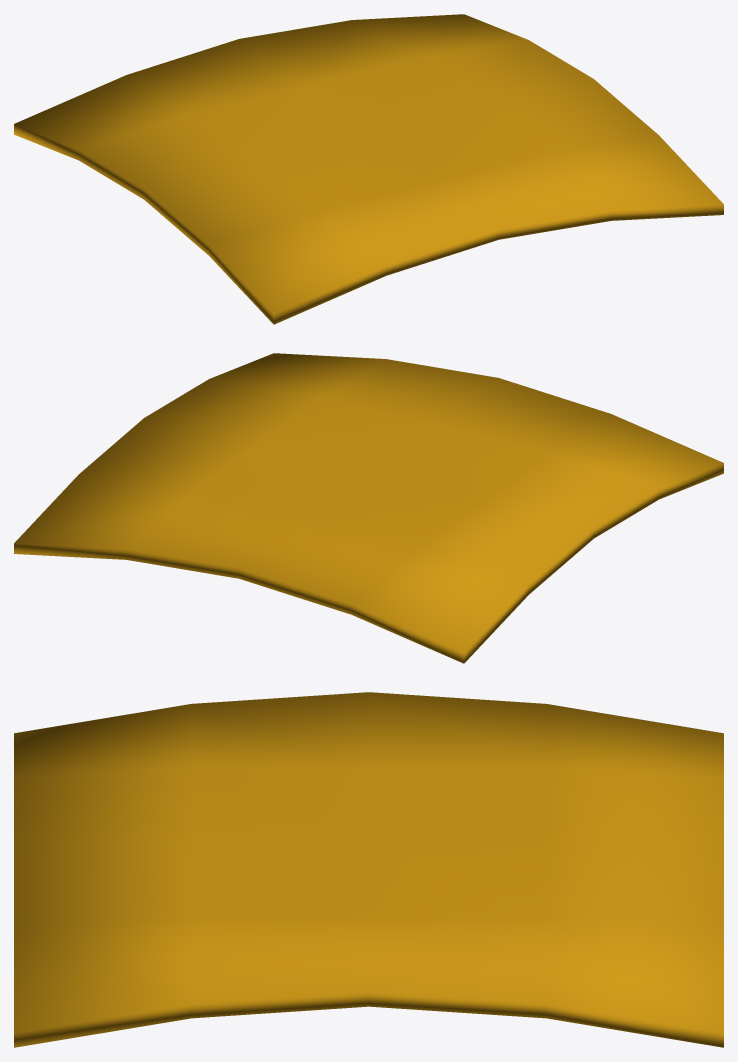
File: cheese.fbx
3 views of the same model, one above another, from view 1: azimuth 30°, elevation 25°; view 2: azimuth 150°, elevation 25°; view 3: azimuth 270°, elevation 25° (orthographic). The views are drawn at different scales.
Visible parts, largest first — view 1: cheese.001; view 2: cheese.001; view 3: cheese.001.
Boxes of the visible parts, bbox=[...] form: cheese.001: bbox=[14, 14, 723, 324]; cheese.001: bbox=[14, 353, 723, 663]; cheese.001: bbox=[14, 692, 723, 1047].
Bounding box in the file's own units: 0.1953 × 0.0169 × 0.1953.
